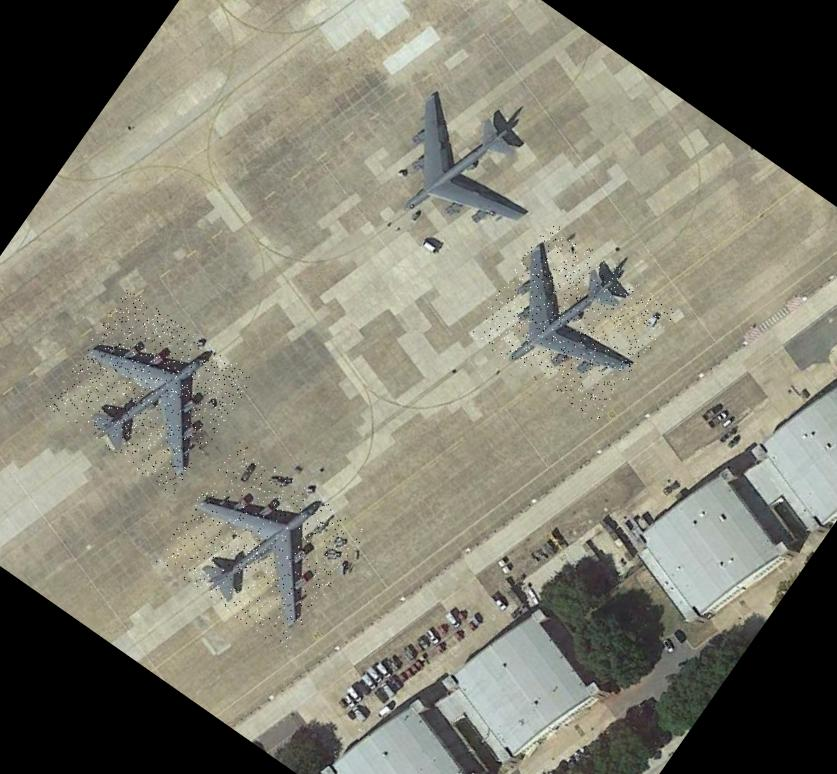A8: (153, 441, 368, 652), (45, 288, 256, 496), (468, 219, 678, 424), (364, 74, 568, 272)
